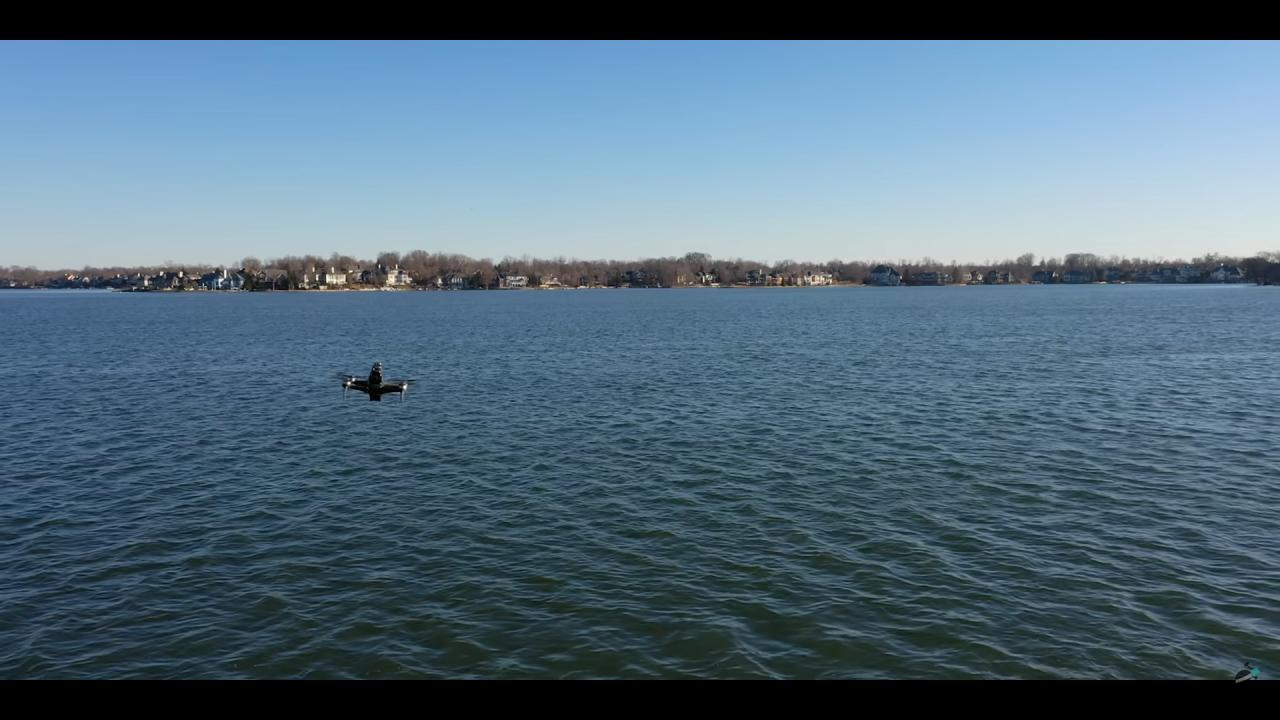Drone: (328, 352, 422, 414)
